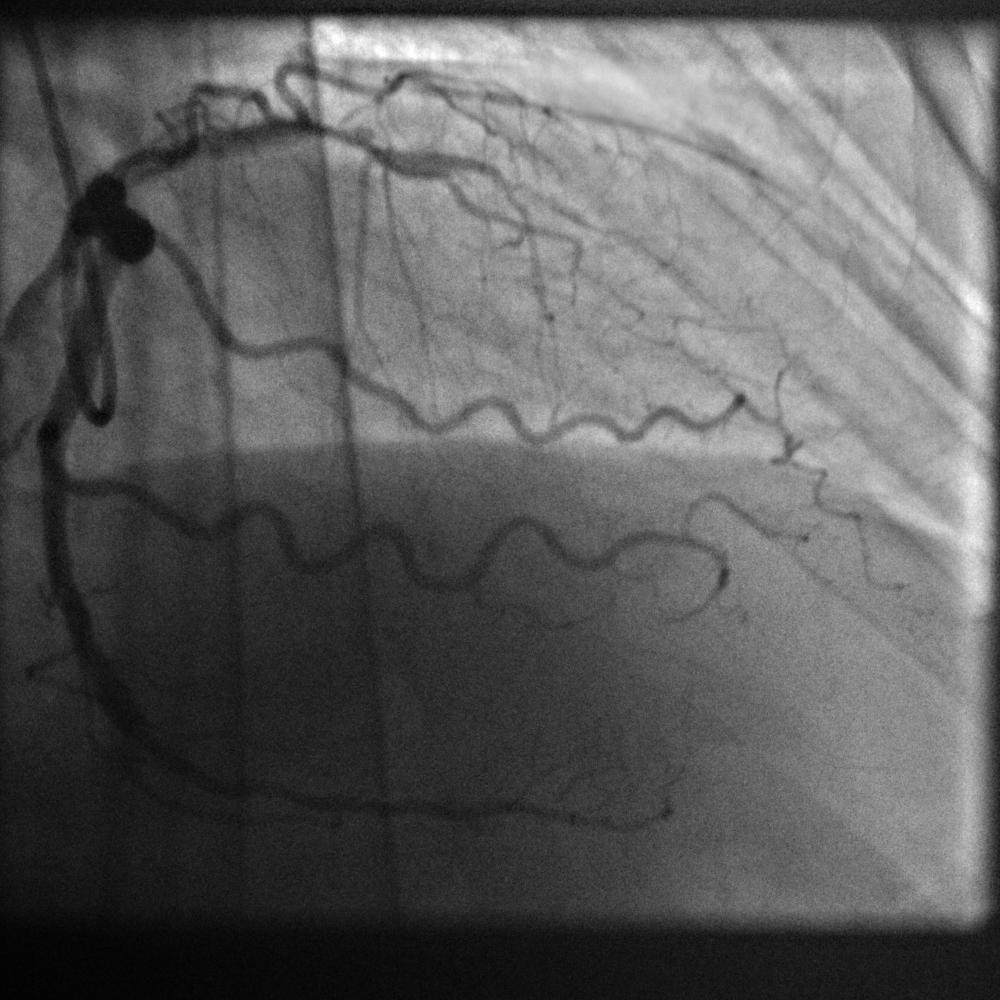Stenosis: (114, 707, 178, 770)
